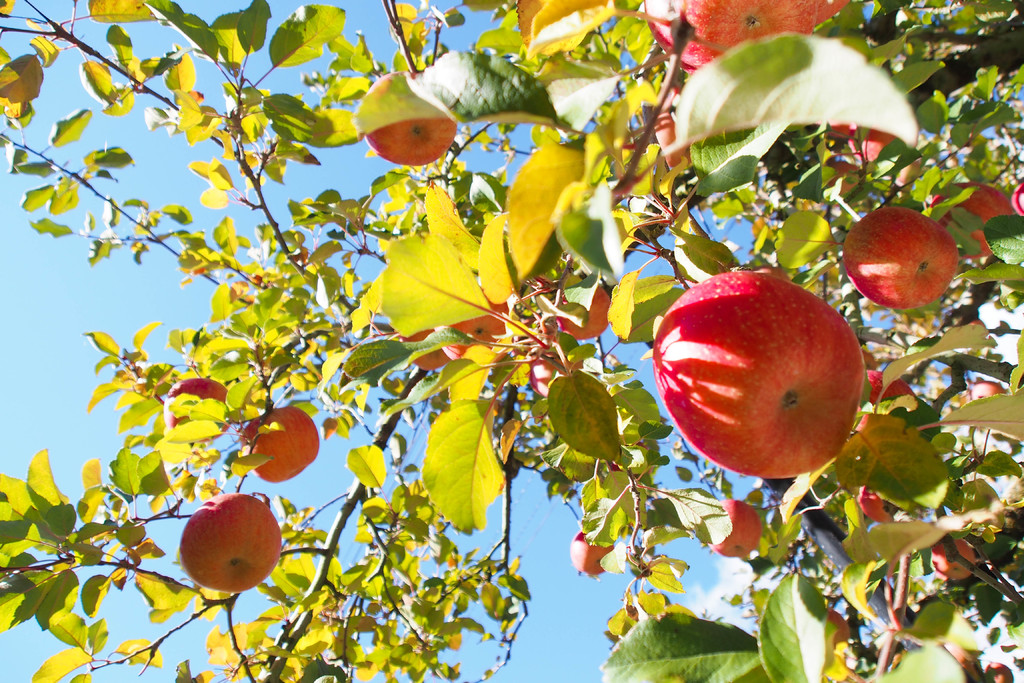Apple: (659, 266, 873, 470), (638, 0, 812, 70), (841, 208, 958, 310), (179, 490, 284, 593), (359, 67, 456, 167), (817, 121, 921, 199), (926, 180, 1011, 259), (237, 403, 318, 483), (432, 287, 512, 360), (162, 379, 237, 442), (648, 78, 689, 175), (552, 281, 608, 342), (705, 496, 761, 557), (525, 349, 584, 394), (928, 536, 976, 583), (565, 531, 615, 574), (398, 326, 446, 368), (867, 368, 919, 405), (940, 640, 976, 682), (958, 376, 1010, 404), (858, 485, 894, 522), (829, 606, 848, 650), (816, 0, 846, 25), (984, 659, 1013, 682)
